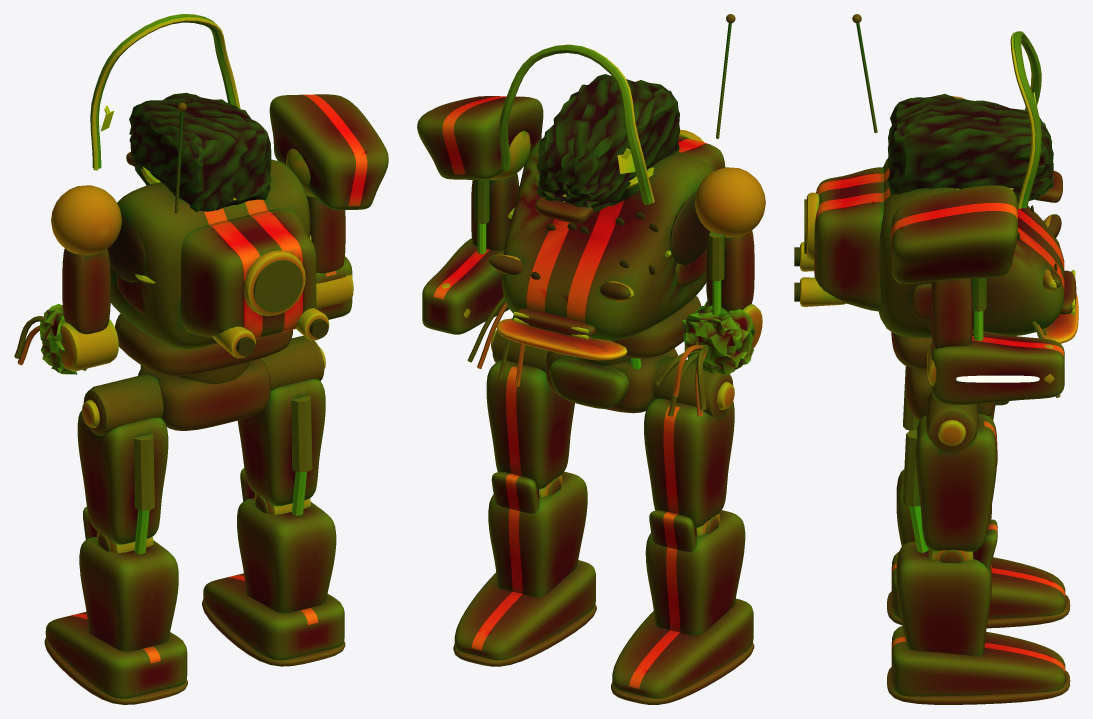
The model's file is titan_wreck.glb.
3 renders of one model, left to right at view 1: azimuth 30°, elevation 25°; view 2: azimuth 150°, elevation 25°; view 3: azimuth 270°, elevation 25°, orthographic.
Visible parts, largest first — view 1: LegLMesh, LegRMesh, Torso, Engine, Canopy, ArmLMesh, ArmRFender, Pelvis, ArmRMesh, Cockpit, Core; view 2: Torso, LegLMesh, LegRMesh, ArmLMesh, Canopy, ArmRMesh, ArmRFender, Pelvis, Cockpit, Engine, Eye; view 3: LegRMesh, Torso, Canopy, ArmRMesh, ArmRFender, Engine, LegLMesh, Cockpit, Pelvis, Antenna.
Part boxes in pixels (bbox=[...]): LegLMesh: bbox=[44, 374, 187, 704]; LegRMesh: bbox=[202, 336, 345, 666]; Torso: bbox=[107, 159, 311, 376]; Engine: bbox=[180, 208, 329, 358]; Canopy: bbox=[129, 92, 271, 212]; ArmLMesh: bbox=[14, 185, 121, 374]; ArmRFender: bbox=[269, 94, 388, 210]; Pelvis: bbox=[138, 359, 270, 430]; ArmRMesh: bbox=[285, 148, 353, 319]; Cockpit: bbox=[90, 14, 240, 170]; Core: bbox=[253, 259, 302, 312]; Torso: bbox=[488, 138, 713, 360]; LegLMesh: bbox=[611, 356, 754, 704]; LegRMesh: bbox=[453, 318, 596, 666]; ArmLMesh: bbox=[655, 167, 765, 416]; Canopy: bbox=[536, 74, 679, 211]; ArmRMesh: bbox=[422, 130, 530, 334]; ArmRFender: bbox=[417, 96, 543, 179]; Pelvis: bbox=[546, 348, 678, 413]; Cockpit: bbox=[499, 44, 654, 223]; Engine: bbox=[467, 129, 725, 386]; Eye: bbox=[489, 255, 630, 299]; LegRMesh: bbox=[887, 391, 1070, 704]; Torso: bbox=[878, 158, 1078, 369]; Canopy: bbox=[887, 94, 1053, 202]; ArmRMesh: bbox=[927, 278, 1064, 404]; ArmRFender: bbox=[891, 185, 1017, 283]; Engine: bbox=[794, 167, 1060, 397]; LegLMesh: bbox=[887, 366, 1070, 628]; Cockpit: bbox=[1010, 31, 1062, 208]; Pelvis: bbox=[906, 366, 1008, 420]; Antenna: bbox=[852, 14, 877, 132].
Size of the model in its own units: 3.81 by 7.1 by 2.99.
